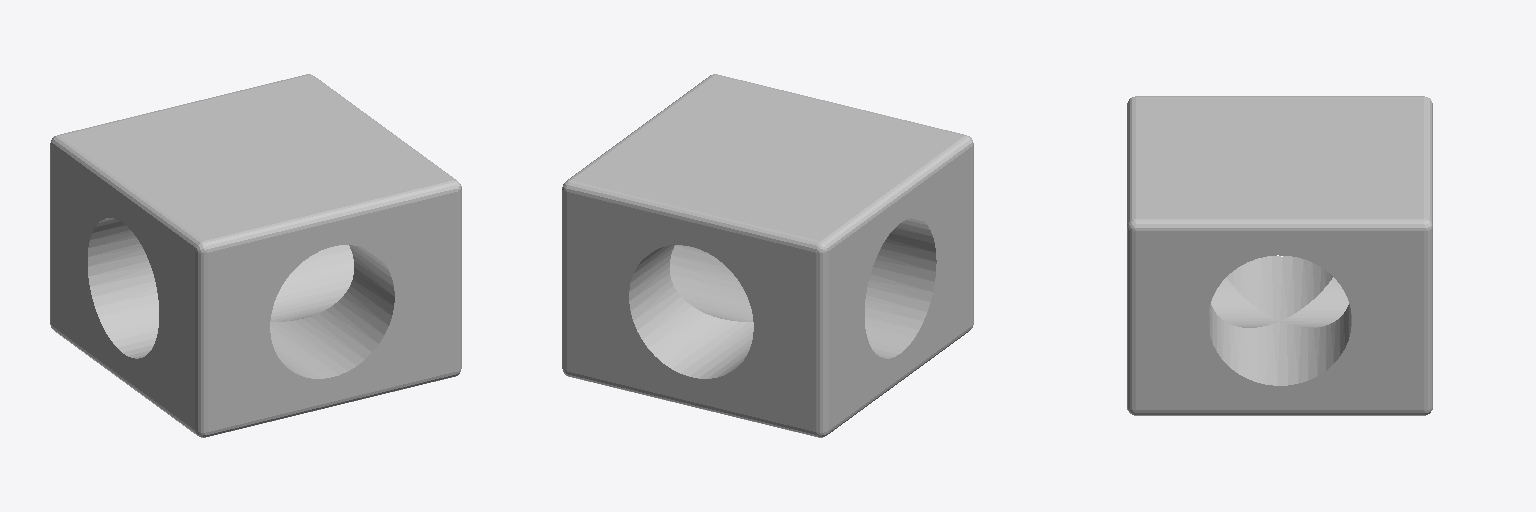
Rendered from cj_middle_vis.obj.
3 renders of one model, left to right at view 1: azimuth 30°, elevation 25°; view 2: azimuth 150°, elevation 25°; view 3: azimuth 270°, elevation 25°, orthographic.
Visible parts, largest first — view 1: Solid1; view 2: Solid1; view 3: Solid1.
Part boxes in pixels (x1,y1,x2,y2): Solid1: (50,74,461,437); Solid1: (562,74,973,437); Solid1: (1127,96,1432,415).
Bounding box in the file's own units: 0.017 × 0.012 × 0.017.